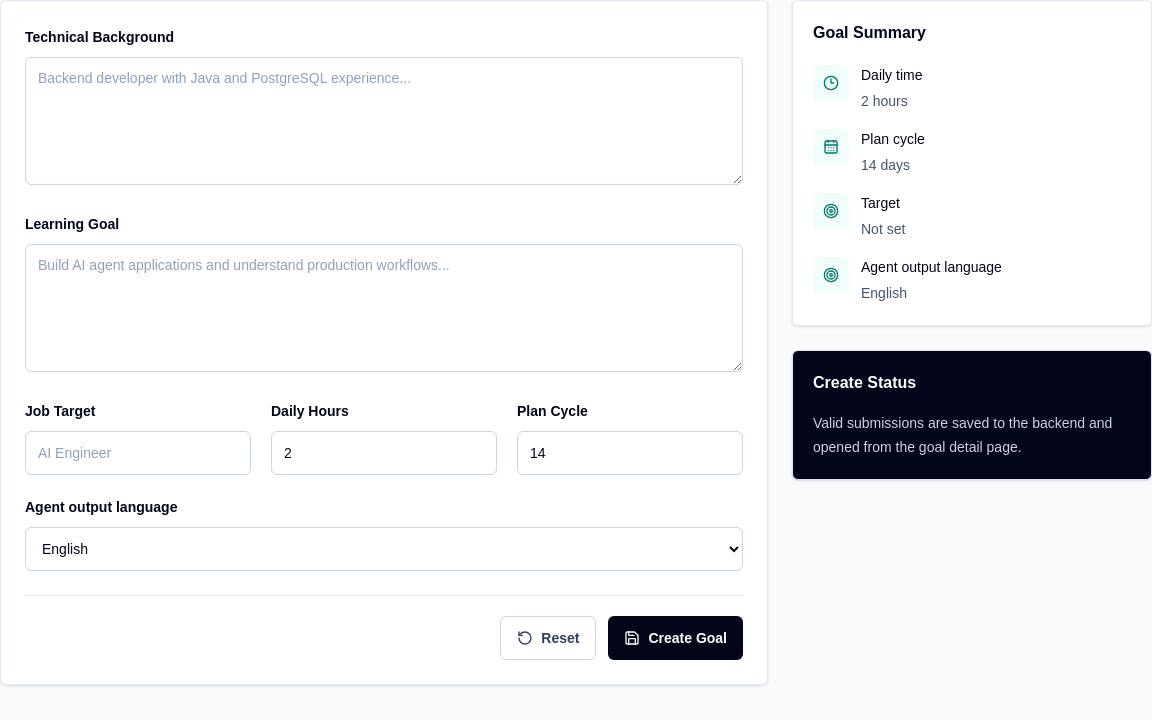
Test: NewGoalForm › shows validation errors for an incomplete goal
Click the button "Create Goal": point(676, 638) [608, 616, 743, 660]
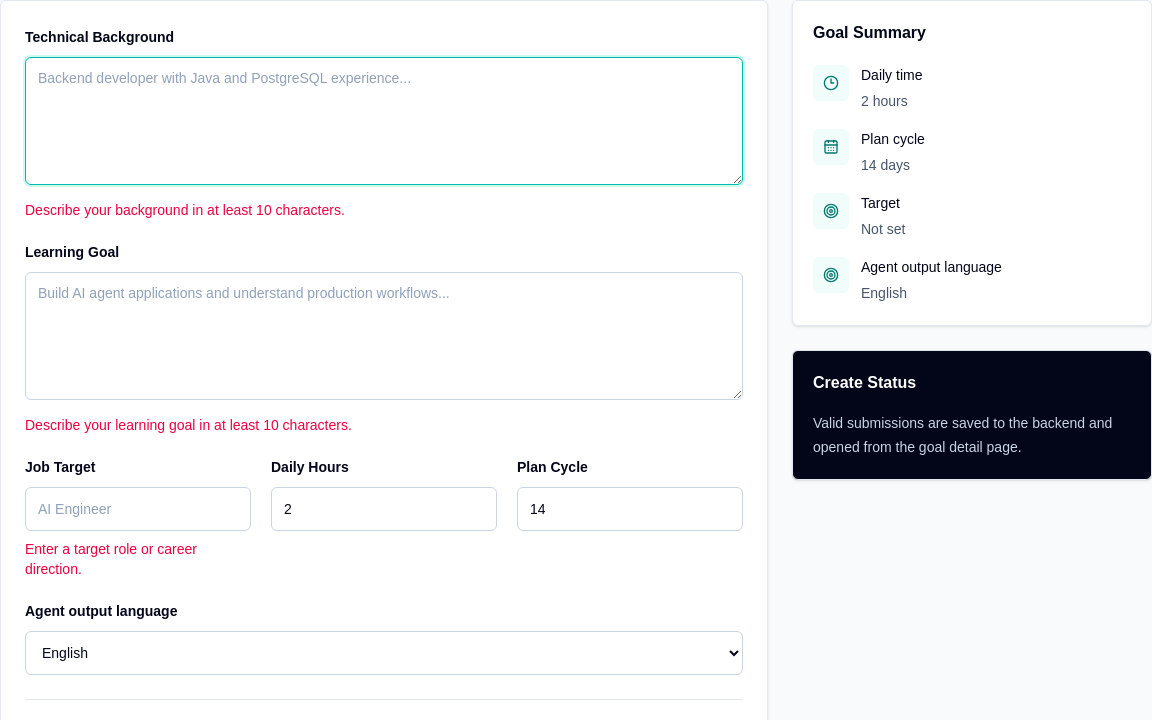
Check: the text "Describe your background in at least 10 characters." is shown, box [25, 202, 345, 218]
Check: the text "Describe your learning goal in at least 10 characters." is shown, box [25, 417, 352, 433]
Check: the text "Enter a target role or career direction." is shown, box [25, 541, 197, 577]
